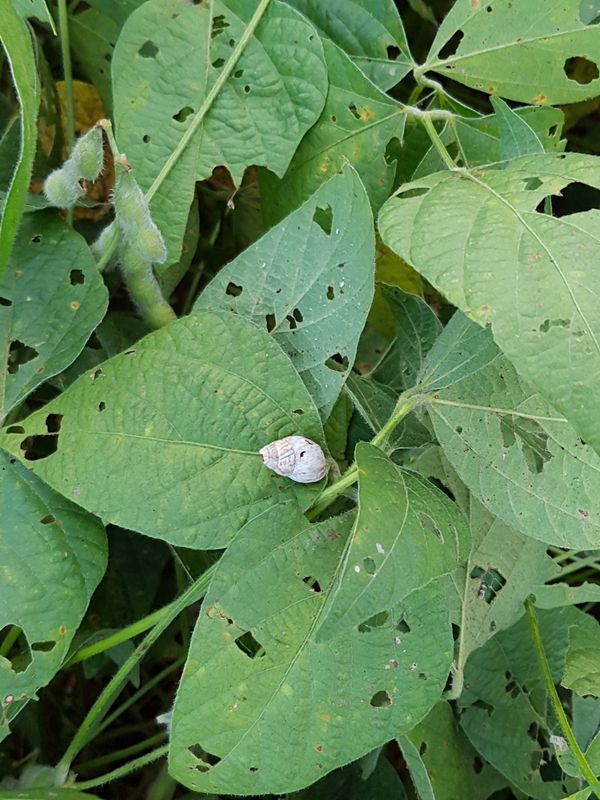Gastropoda: (254, 427, 337, 494)
